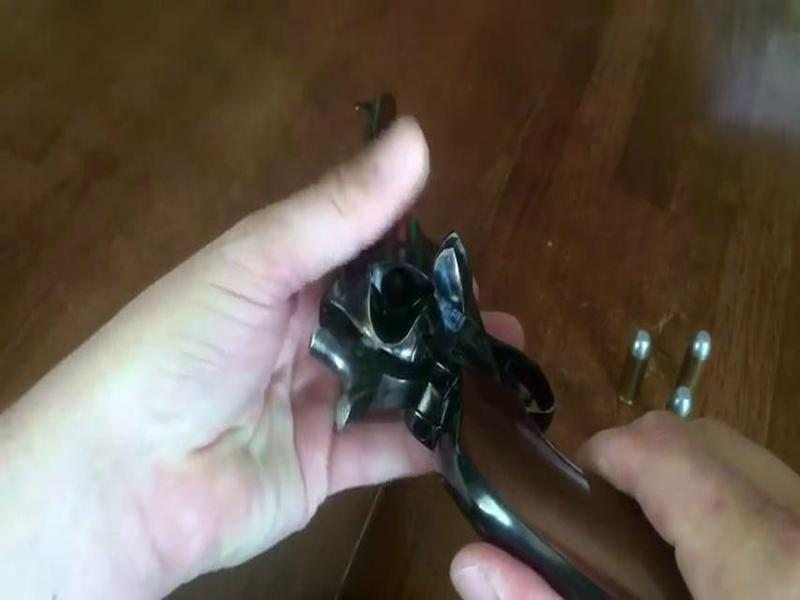Revolver: (318, 82, 567, 559)
